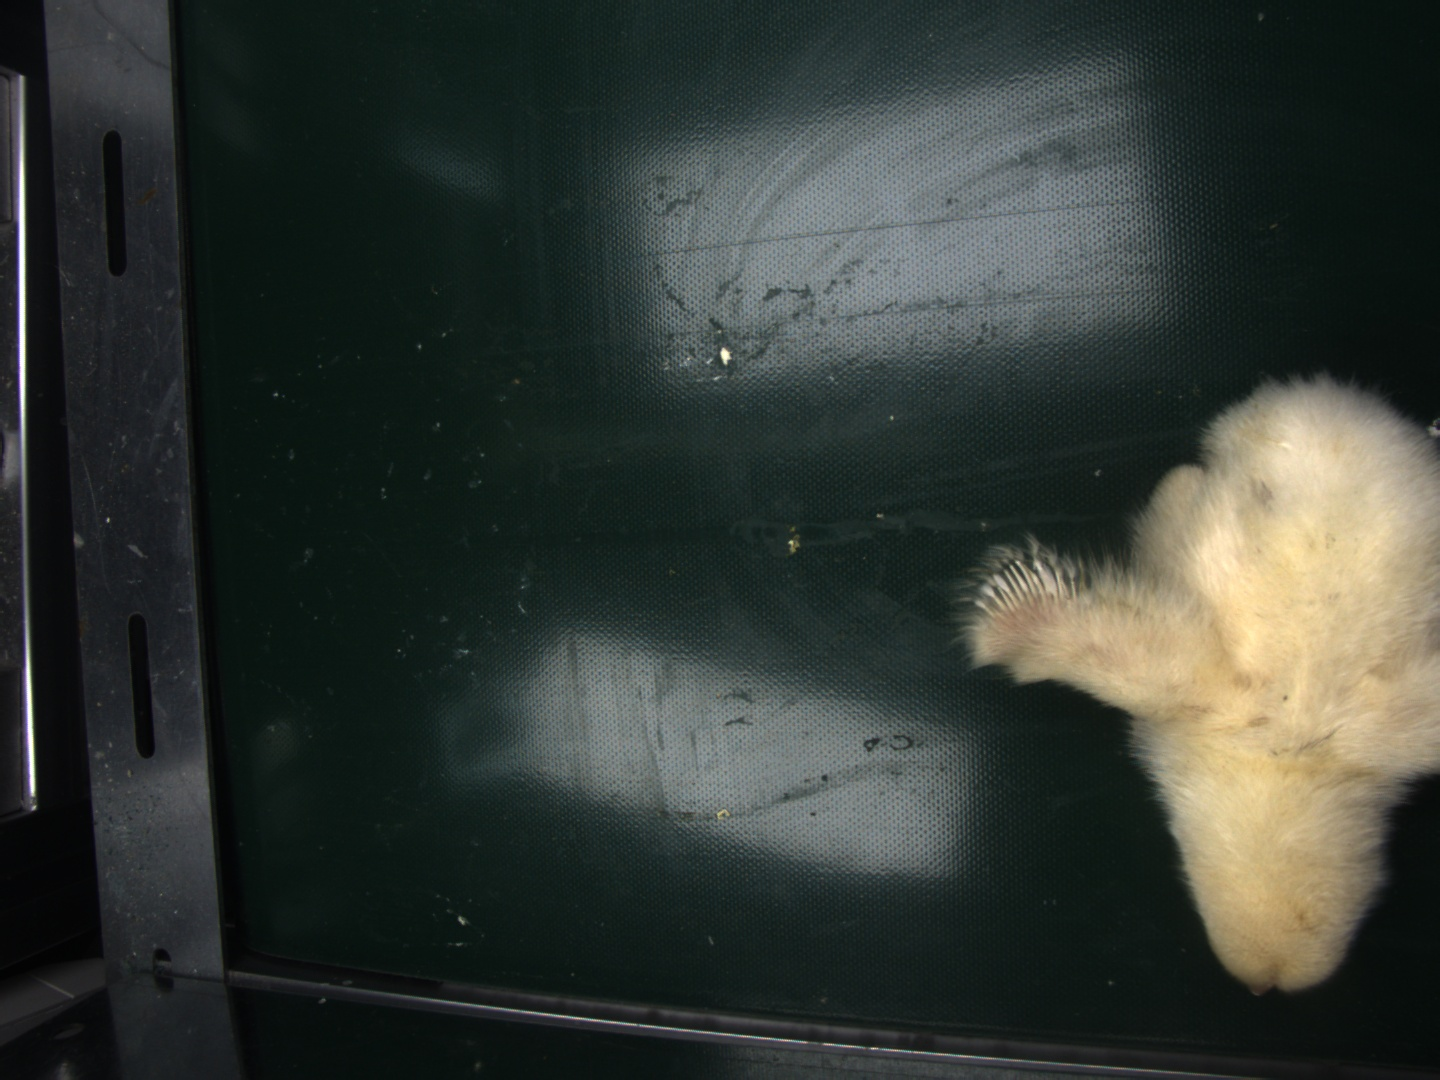male: (977, 557, 1064, 619)
